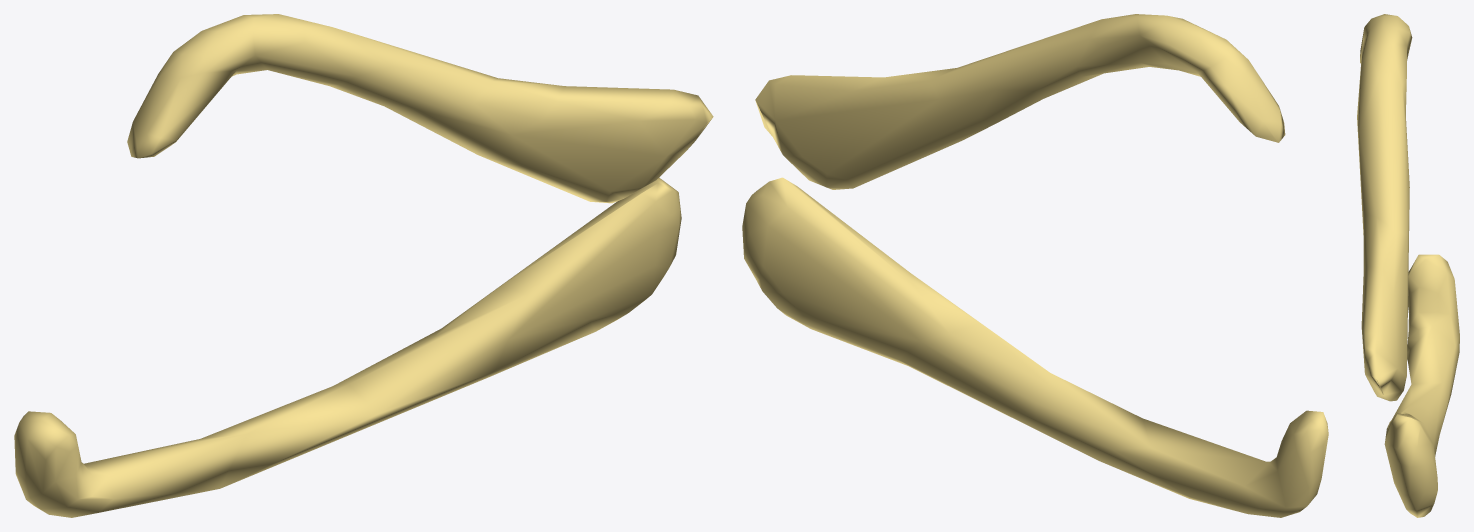
3 renders of one model, left to right at view 1: azimuth 30°, elevation 25°; view 2: azimuth 150°, elevation 25°; view 3: azimuth 270°, elevation 25°, orthographic. The views are drawn at different scales.
Visible parts, largest first — view 1: ZA_f46219d6bcb7d057; view 2: ZA_f46219d6bcb7d057; view 3: ZA_f46219d6bcb7d057.
Boxes of the visible parts, x1,y1,x2,y2 form: ZA_f46219d6bcb7d057: [14, 14, 713, 517]; ZA_f46219d6bcb7d057: [742, 14, 1328, 517]; ZA_f46219d6bcb7d057: [1357, 14, 1459, 517].
Size of the model in its own units: 0.00706 by 0.00501 by 0.00116.
